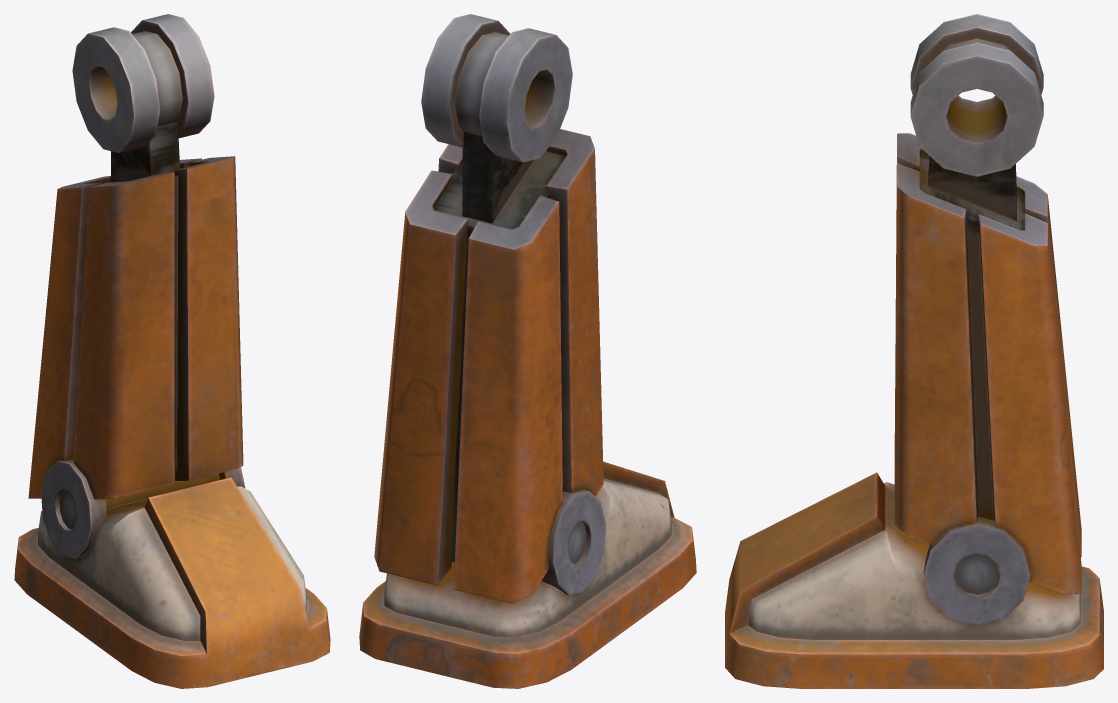
The model's file is SM0029_Scifi_BrokenRobot_Leg.fbx.
3 views of the same model, side by side, from view 1: azimuth 30°, elevation 25°; view 2: azimuth 150°, elevation 25°; view 3: azimuth 270°, elevation 25° (orthographic). The views are drawn at different scales.
Parts seen in each view (by area): view 1: Cylinder.011; view 2: Cylinder.011; view 3: Cylinder.011.
Part boxes in pixels (x1,y1,x2,y2): Cylinder.011: [14, 14, 330, 688]; Cylinder.011: [359, 14, 696, 688]; Cylinder.011: [725, 14, 1103, 688].
Size of the model in its own units: 19.55 by 31.98 by 56.34.
